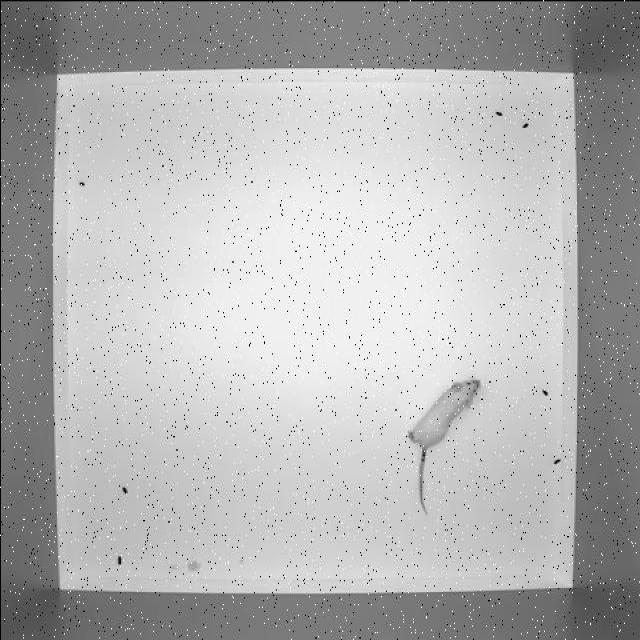rat: (391, 371, 482, 518)
